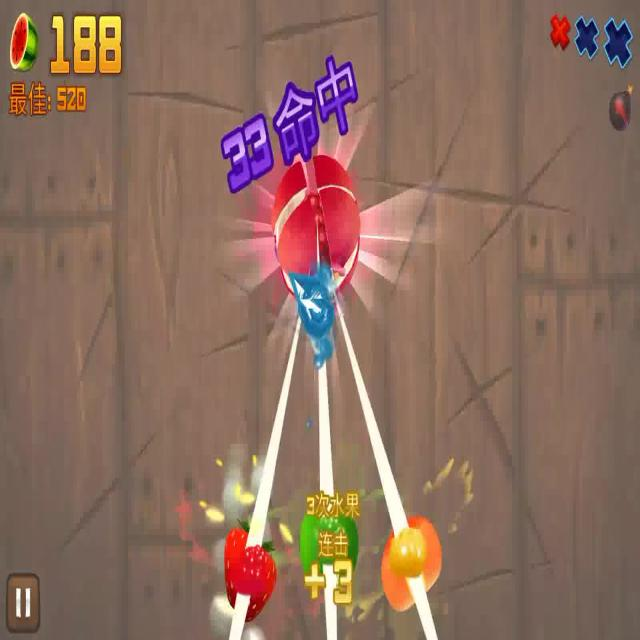fruit: (272, 148, 362, 306), (375, 499, 445, 625), (211, 517, 281, 624), (298, 491, 353, 598)
